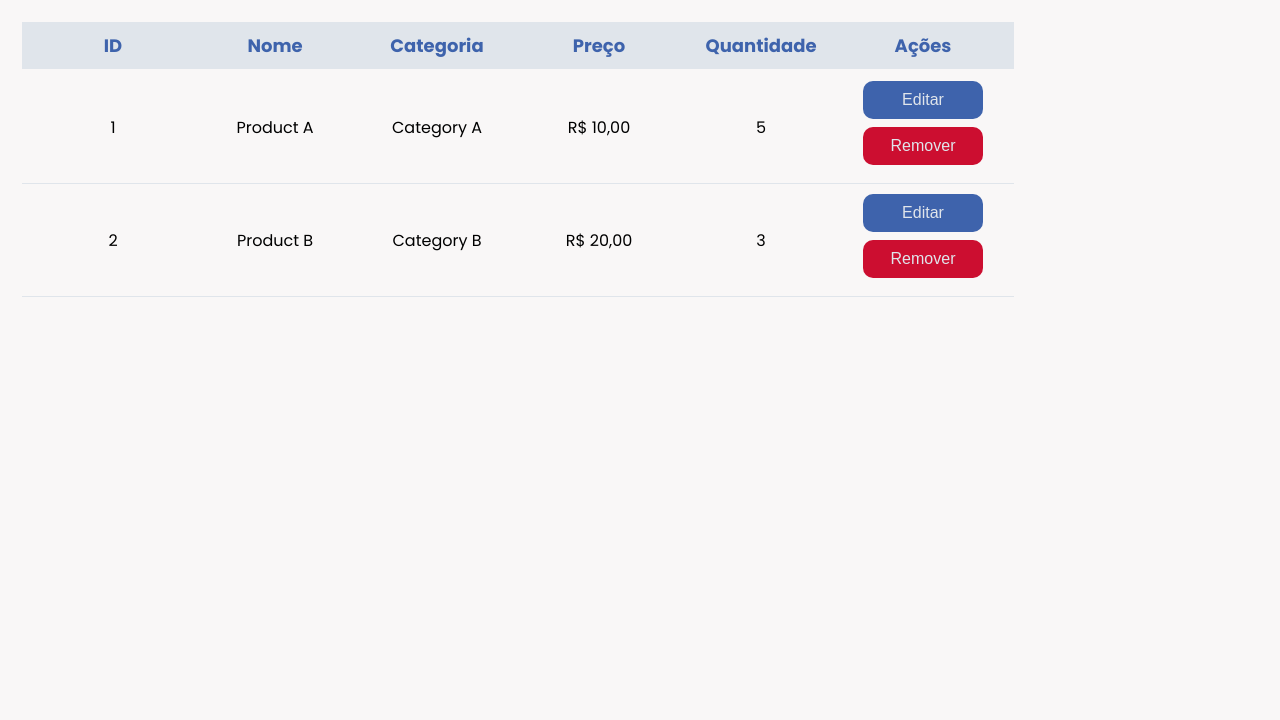
Test case: abre o modal de confirmação ao clicar em "Remover"
Click the button "Remover" in the row of "Product A".
click(923, 146)  # box [863,127,983,165]
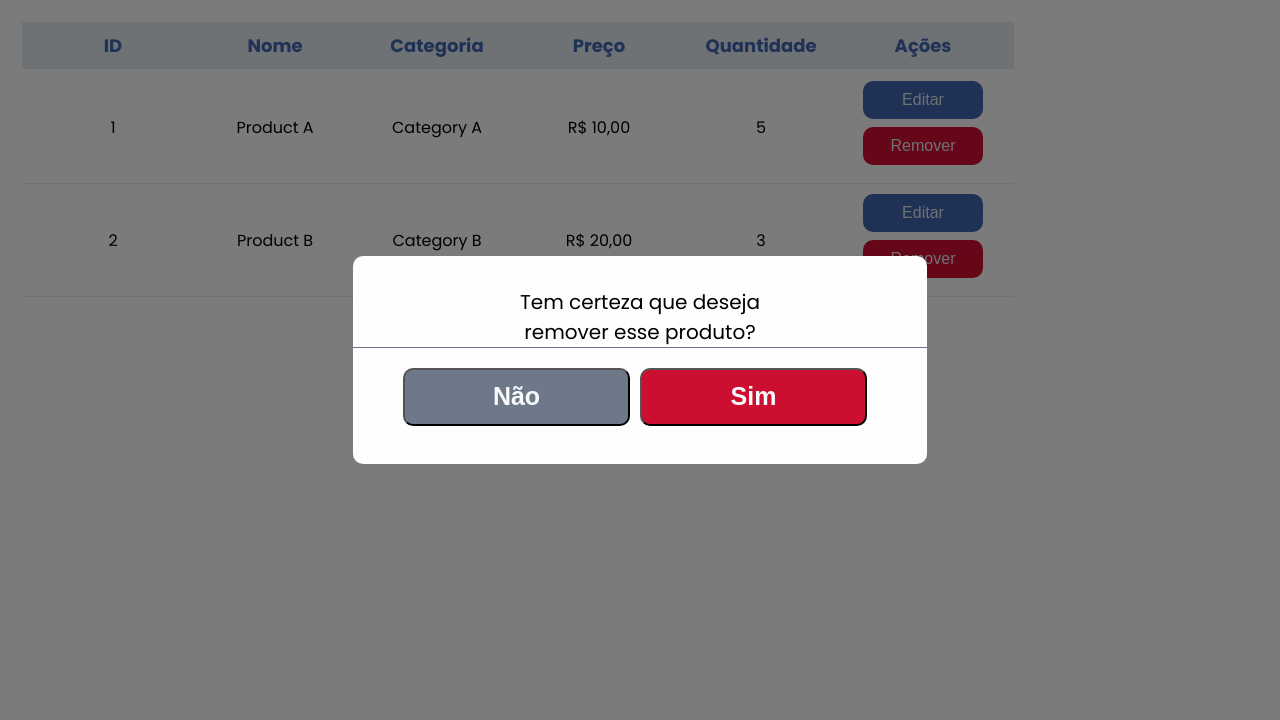
expect the text "Tem certeza que deseja remover esse produto?" is shown: met, box [520,286,760,346]
expect the button "Não" is shown: met, box [403,368,630,426]
expect the button "Sim" is shown: met, box [640,368,867,426]
